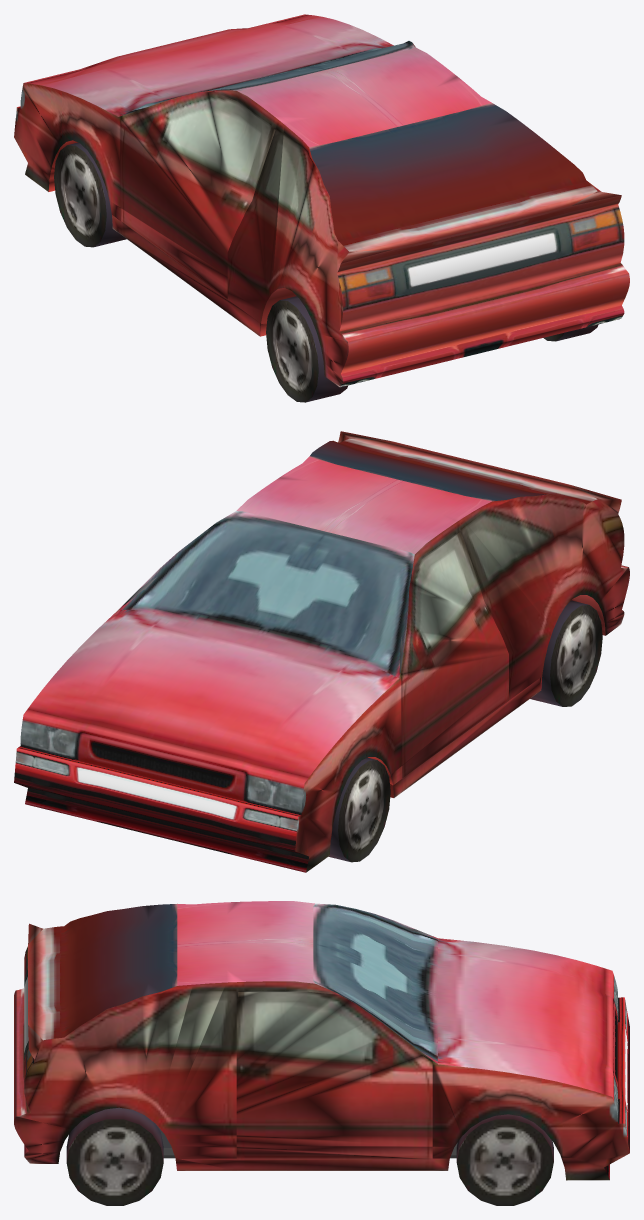
Rendered from vw_corrado.glb.
3 views of the same model, one above another, from view 1: azimuth 30°, elevation 25°; view 2: azimuth 150°, elevation 25°; view 3: azimuth 270°, elevation 25° (orthographic). The views are drawn at different scales.
Visible parts, largest first — view 1: body, door_FL, wheel_RL, wheel_FL; view 2: body, door_FL, wheel_RL, wheel_FL; view 3: body, door_FR, wheel_RR, wheel_FR.
Boxes of the visible parts, box(x1,y1,x2,y2) form: body: box(14, 14, 629, 387); door_FL: box(121, 90, 275, 298); wheel_RL: box(266, 296, 348, 402); wheel_FL: box(54, 142, 126, 247); body: box(14, 431, 629, 872); door_FL: box(399, 531, 508, 778); wheel_RL: box(530, 600, 602, 706); wheel_FL: box(328, 757, 390, 862); body: box(14, 901, 629, 1180); door_FR: box(236, 991, 432, 1158); wheel_RR: box(66, 1107, 163, 1205); wheel_FR: box(456, 1114, 553, 1205).
Size of the model in its own units: 1.78 by 1.3 by 3.61.
Materials: 5 (1 with a texture image).
